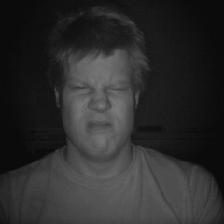sad: (38, 8, 150, 168)
